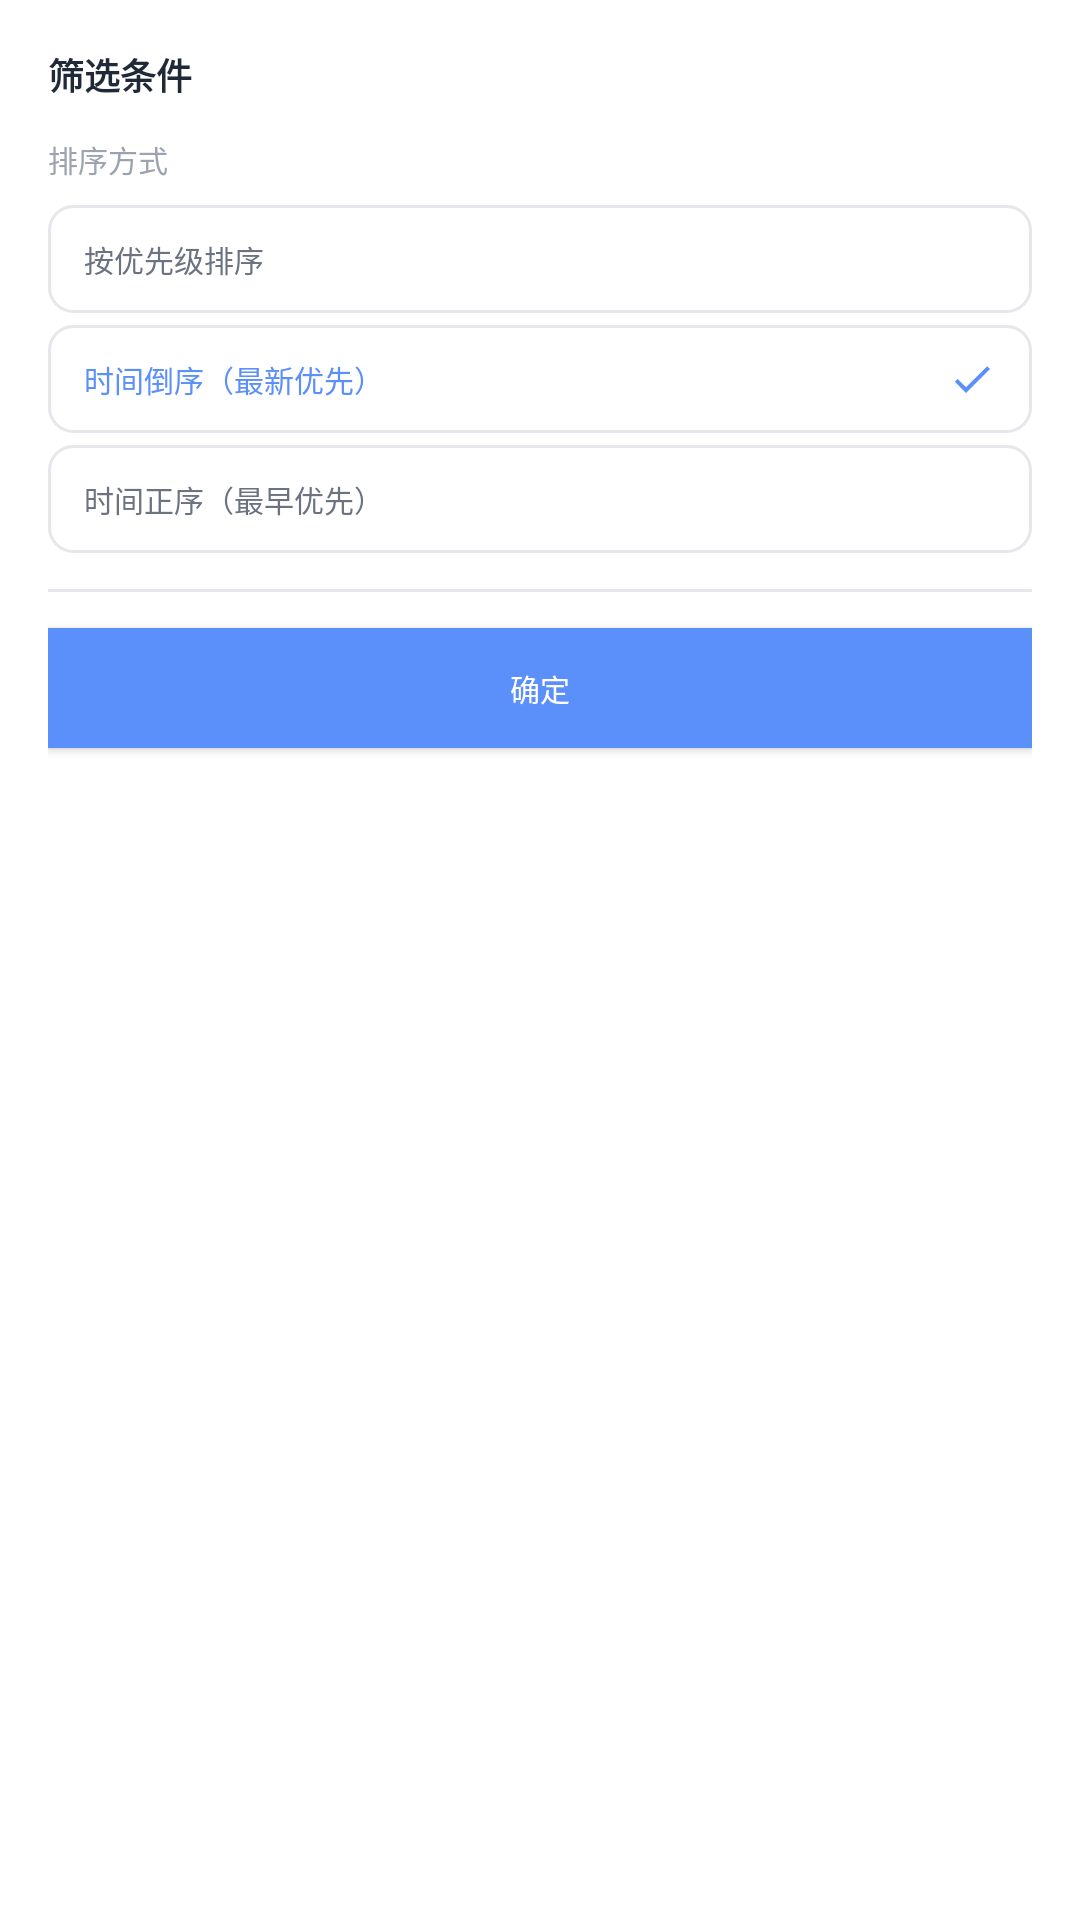

Screen size 1080px×1920px. Icon name, then its center in pixels as point (x, y):
check: point (972, 379)
